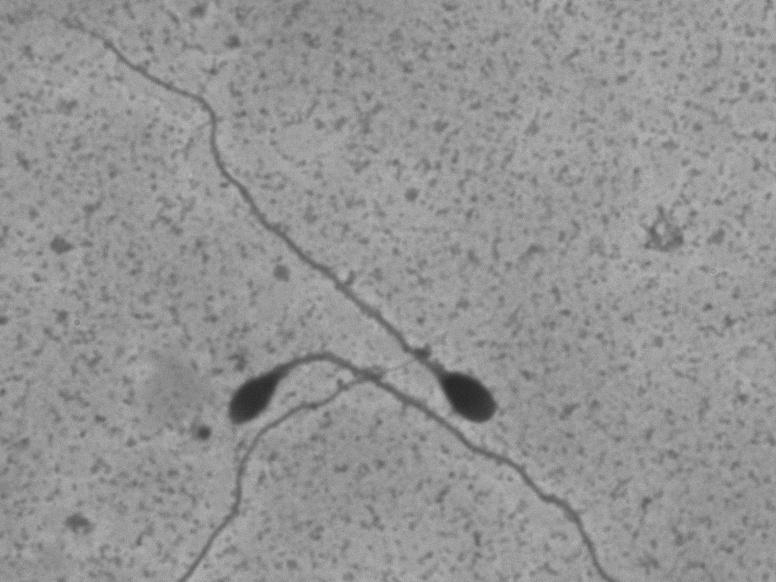Abnormal: (212, 341, 619, 578)
Normal: (52, 9, 522, 437)
